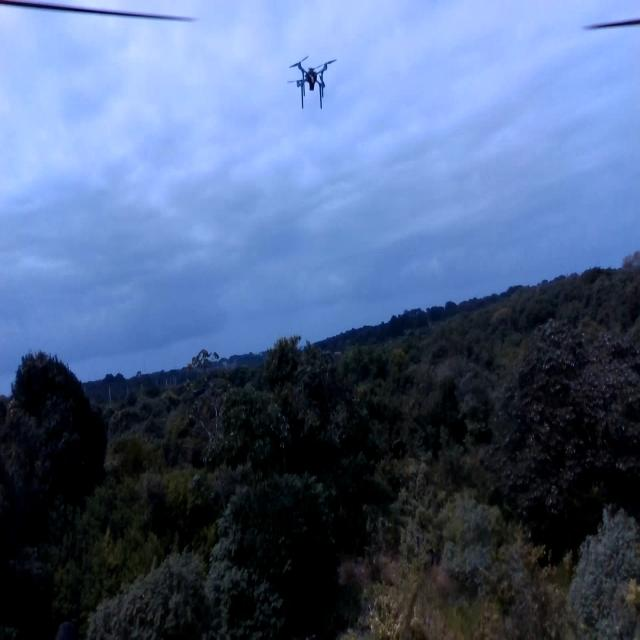-uav-: (283, 43, 344, 118)
